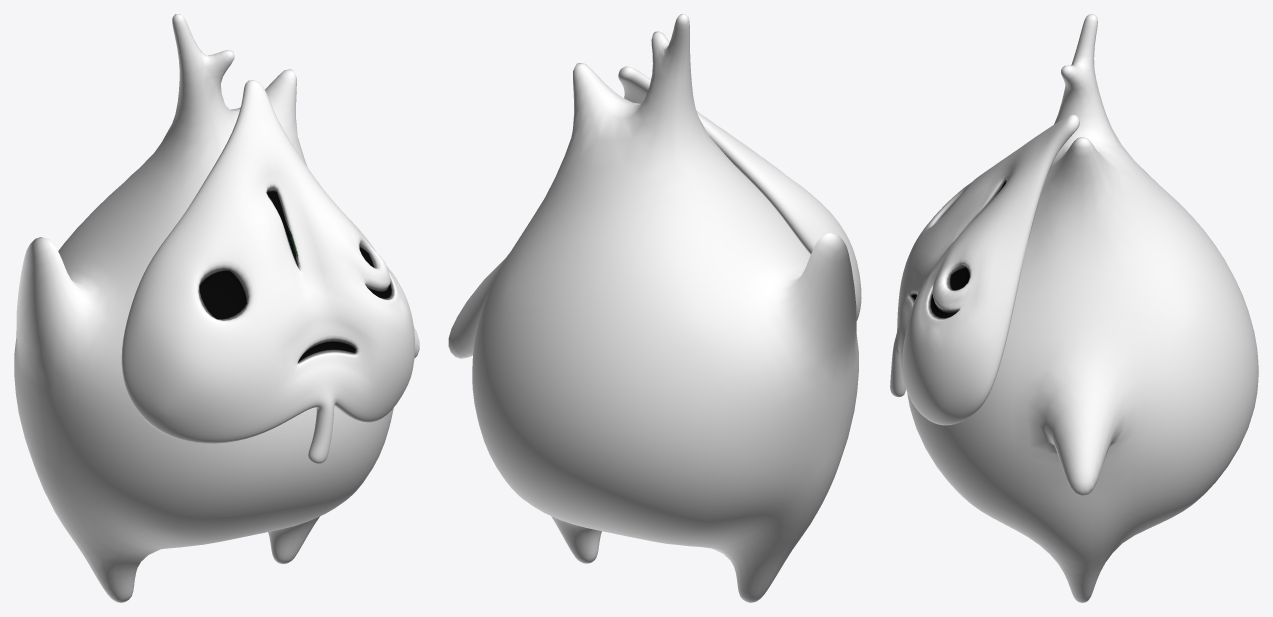
Rendered from makarfinal.fbx.
The picture shows the model from 3 angles, left to right: view 1: azimuth 30°, elevation 25°; view 2: azimuth 150°, elevation 25°; view 3: azimuth 270°, elevation 25°; orthographic projection. The views are drawn at different scales.
Parts seen in each view (by area): view 1: lpbody, lpleaf; view 2: lpbody, lpleaf; view 3: lpbody, lpleaf.
Boxes of the visible parts, x1=… form: lpbody: x1=14, y1=14, x2=419, y2=602; lpleaf: x1=121, y1=80, x2=414, y2=463; lpbody: x1=448, y1=14, x2=858, y2=602; lpleaf: x1=618, y1=66, x2=861, y2=320; lpbody: x1=907, y1=14, x2=1258, y2=602; lpleaf: x1=890, y1=114, x2=1079, y2=425.
Size of the model in its own units: 39.98 by 54.98 by 33.98.
